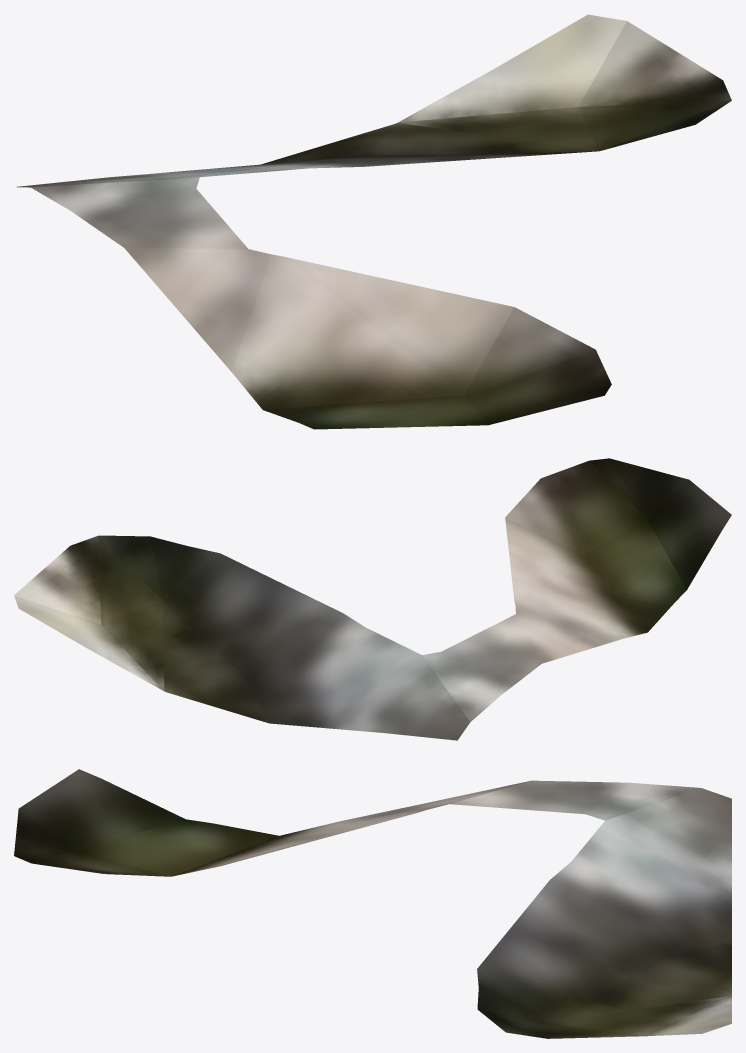
3 views of the same model, one above another, from view 1: azimuth 30°, elevation 25°; view 2: azimuth 150°, elevation 25°; view 3: azimuth 270°, elevation 25° (orthographic). The views are drawn at different scales.
Bounding box in the file's own units: 0.2223 × 0.0256 × 0.25.
1 material, 1 textured.
